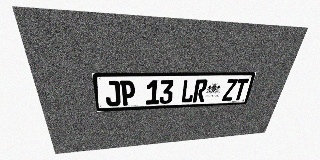1: (146, 80, 160, 105)
3: (159, 80, 174, 104)
J: (104, 81, 121, 107)
L: (180, 79, 196, 103)
P: (120, 80, 135, 106)
R: (192, 79, 208, 102)
T: (232, 79, 249, 100)
Z: (222, 79, 238, 101)
